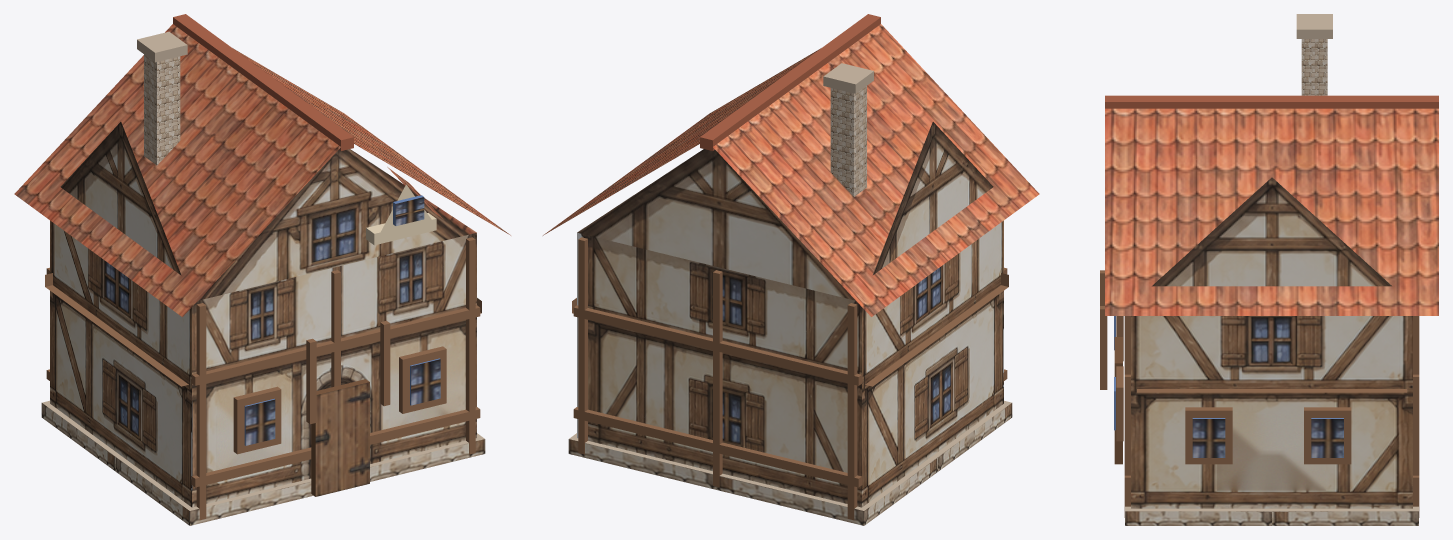
Rendered from two_story.glb.
The picture shows the model from 3 angles, left to right: view 1: azimuth 30°, elevation 25°; view 2: azimuth 150°, elevation 25°; view 3: azimuth 270°, elevation 25°; orthographic projection.
Visible parts, largest first — view 1: roof_front_slope, walls_front, walls_left, gable_front, stone_foundation, gable_left, front_door, timber_front_posts, chimney, roof_ridge_cap, timber_front_upper, window_frames_front (+9 smaller); view 2: walls_back, roof_front_slope, walls_left, gable_back, stone_foundation, gable_left, timber_back_posts, chimney, timber_back_upper, roof_ridge_cap, timber_back_horizontal, roof_back_slope (+2 smaller); view 3: roof_back_slope, walls_right, gable_right, stone_foundation, roof_ridge_cap, window_frames_side, window_glass_side, chimney, timber_front_posts, timber_back_posts, second_floor_overhang, chimney_cap (+3 smaller).
Part boxes in pixels (bbox=[...]): roof_front_slope: bbox=[14, 24, 340, 316]; walls_front: bbox=[192, 233, 476, 507]; walls_left: bbox=[50, 220, 191, 507]; gable_front: bbox=[198, 149, 476, 300]; stone_foundation: bbox=[41, 400, 485, 525]; gable_left: bbox=[60, 122, 181, 275]; front_door: bbox=[311, 379, 369, 496]; timber_front_posts: bbox=[196, 237, 475, 520]; chimney: bbox=[144, 54, 180, 165]; roof_ridge_cap: bbox=[173, 14, 353, 150]; timber_front_upper: bbox=[192, 305, 480, 385]; window_frames_front: bbox=[233, 346, 446, 454]; walls_back: bbox=[577, 233, 861, 507]; roof_front_slope: bbox=[713, 24, 1039, 316]; walls_left: bbox=[862, 220, 1003, 507]; gable_back: bbox=[577, 149, 855, 300]; stone_foundation: bbox=[568, 400, 1012, 525]; gable_left: bbox=[872, 122, 993, 275]; timber_back_posts: bbox=[578, 237, 857, 520]; chimney: bbox=[830, 86, 866, 196]; timber_back_upper: bbox=[573, 305, 862, 385]; roof_ridge_cap: bbox=[700, 14, 880, 150]; timber_back_horizontal: bbox=[573, 407, 862, 487]; roof_back_slope: bbox=[543, 48, 820, 235]; roof_back_slope: bbox=[1105, 108, 1438, 315]; walls_right: bbox=[1131, 316, 1412, 508]; gable_right: bbox=[1152, 177, 1391, 286]; stone_foundation: bbox=[1125, 506, 1418, 525]; roof_ridge_cap: bbox=[1105, 95, 1438, 108]; window_frames_side: bbox=[1185, 407, 1351, 464]; window_glass_side: bbox=[1192, 418, 1343, 457]; chimney: bbox=[1301, 39, 1327, 95]; timber_front_posts: bbox=[1124, 316, 1130, 517]; timber_back_posts: bbox=[1413, 316, 1419, 517]; second_floor_overhang: bbox=[1137, 389, 1406, 392]; chimney_cap: bbox=[1296, 14, 1332, 38].
Bounding box in the file's own units: 5.1 × 5.86 × 5.
1 material, 1 textured.
